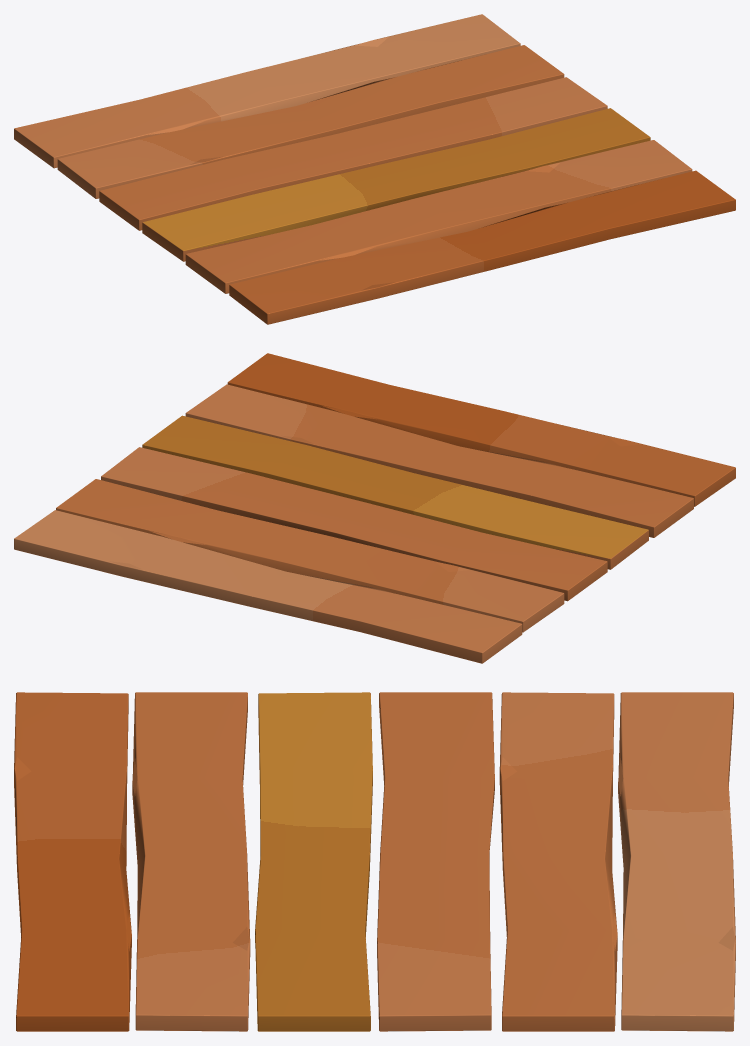
Rendered from SM_WoodenPlatform.fbx.
3 views of the same model, one above another, from view 1: azimuth 30°, elevation 25°; view 2: azimuth 150°, elevation 25°; view 3: azimuth 270°, elevation 25° (orthographic). The views are drawn at different scales.
Visible parts, largest first — view 1: woodPlatform_geo; view 2: woodPlatform_geo; view 3: woodPlatform_geo.
Boxes of the visible parts, x1,y1,x2,y2 form: woodPlatform_geo: [14, 14, 735, 324]; woodPlatform_geo: [14, 353, 735, 663]; woodPlatform_geo: [14, 692, 735, 1031].
Size of the model in its own units: 591 by 13.69 by 557.
Materials: 1 (1 with a texture image).
